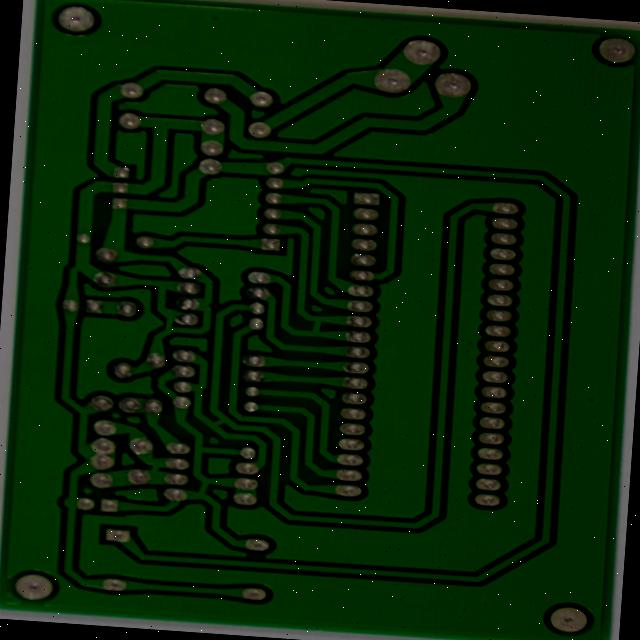short: (152, 308, 182, 340), (300, 311, 333, 340), (190, 472, 219, 504), (139, 453, 167, 478), (203, 410, 231, 432)
